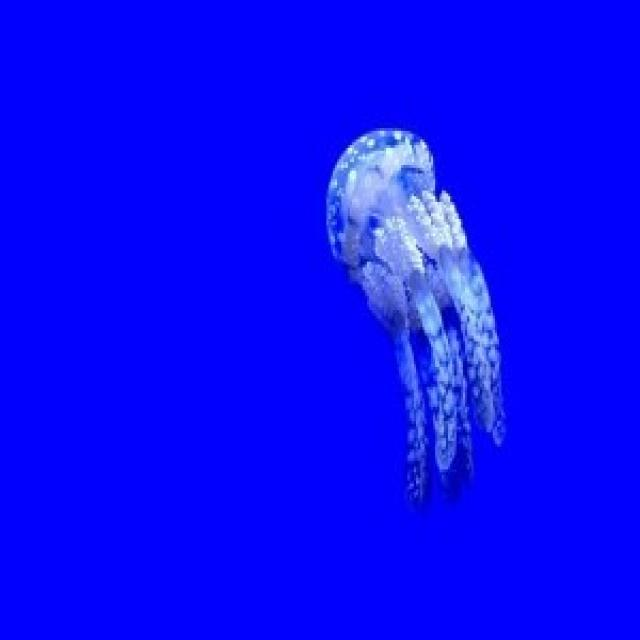Jellyfish: (316, 113, 518, 508)
